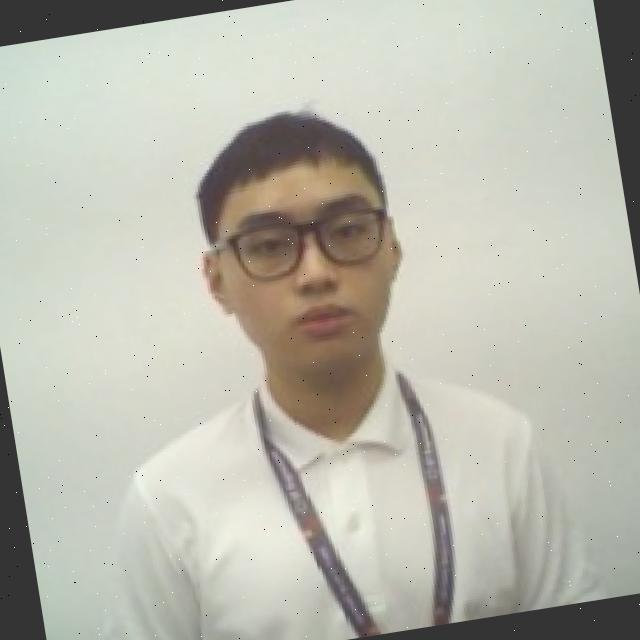no_gloves: (177, 95, 384, 237)
no_hairnet: (197, 213, 420, 387)
